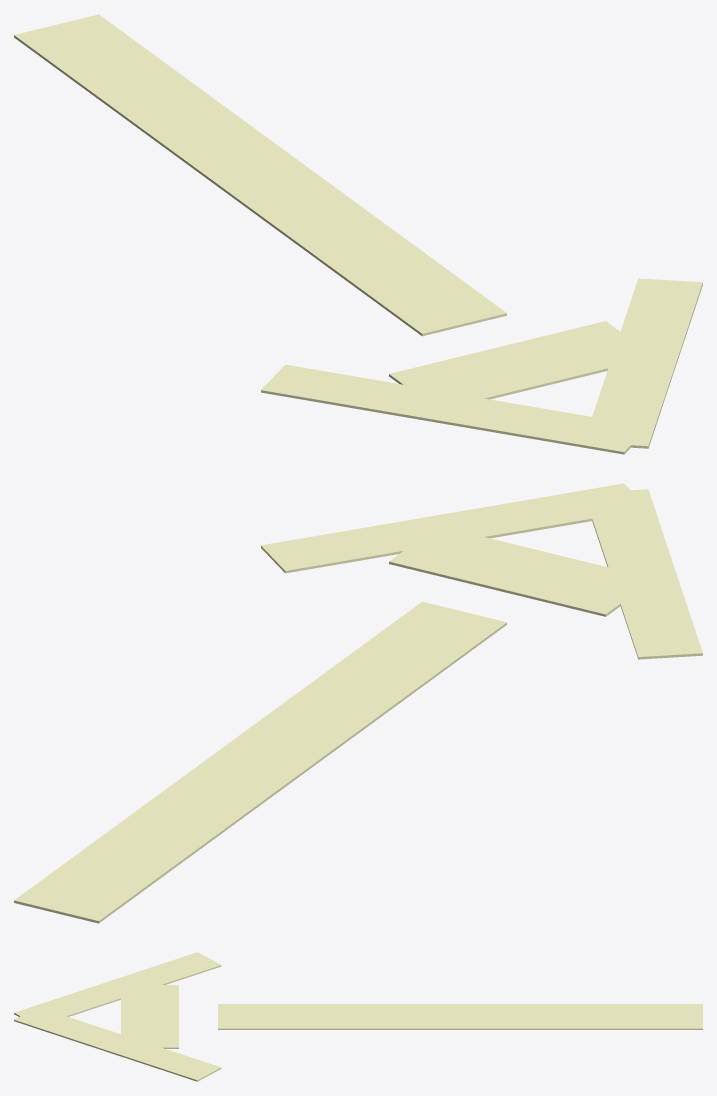
File: marking_arrow_straight_white.glb
3 renders of one model, top to bottom at view 1: azimuth 30°, elevation 25°; view 2: azimuth 150°, elevation 25°; view 3: azimuth 270°, elevation 25°, orthographic. The views are drawn at different scales.
Parts seen in each view (by area): view 1: shaft, head_left, head_right, head_cap; view 2: shaft, head_cap, head_right, head_left; view 3: shaft, head_right, head_left, head_cap.
Boxes of the visible parts, x1=… form: shaft: x1=14, y1=14, x2=506, y2=336; head_left: x1=261, y1=364, x2=648, y2=454; head_right: x1=584, y1=278, x2=702, y2=448; head_cap: x1=389, y1=321, x2=630, y2=409; shaft: x1=14, y1=601, x2=506, y2=923; head_cap: x1=389, y1=526, x2=654, y2=616; head_right: x1=261, y1=483, x2=645, y2=573; head_left: x1=584, y1=489, x2=702, y2=659; shaft: x1=218, y1=1004, x2=702, y2=1029; head_right: x1=14, y1=1007, x2=221, y2=1081; head_left: x1=14, y1=952, x2=221, y2=1020; head_cap: x1=121, y1=985, x2=178, y2=1048.
Bounding box in the file's own units: 0.9378 × 0.005 × 2.13.
